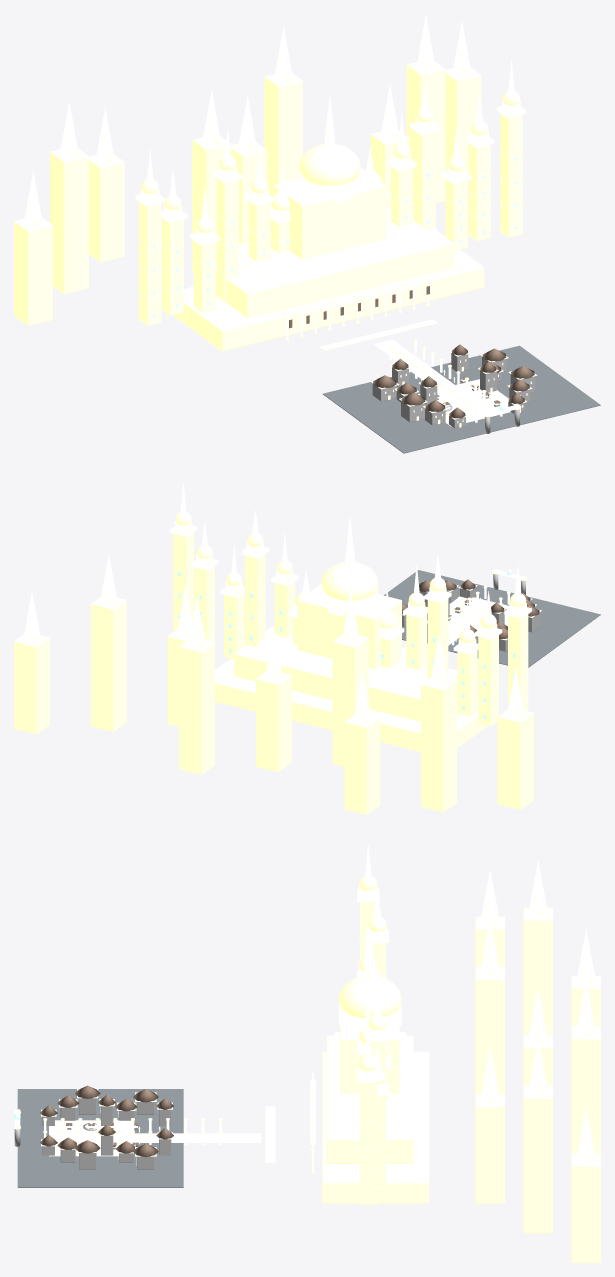
The model's file is asgard.glb.
The picture shows the model from 3 angles, top to bottom: view 1: azimuth 30°, elevation 25°; view 2: azimuth 150°, elevation 25°; view 3: azimuth 270°, elevation 25°; orthographic projection. The views are drawn at different scales.
Parts seen in each view (by area): view 1: Asgardian town square, Royal palace second ward, Royal palace lower citadel, Royal keep, Horizon tower.001, Royal palace upper ward, Horizon tower.005, Horizon tower, Horizon tower.002, Horizon tower.007, Palace tower shaft.005, Palace tower shaft.011 (+27 smaller); view 2: Horizon tower.007, Horizon tower.005, Horizon tower.001, Asgardian town square, Royal keep, Royal palace second ward, Royal palace lower citadel, Horizon tower.002, Horizon tower, Horizon tower.008, Horizon tower.004, Horizon tower.003 (+26 smaller); view 3: Asgardian town square, Horizon tower.007, Royal palace second ward, Royal palace lower citadel, Horizon tower.001, Horizon tower.003, Horizon tower.005, Horizon tower.006, Horizon tower.008, Royal palace upper ward, Royal palace terrace, Palace tower shaft.011 (+18 smaller).
Part boxes in pixels (x1,y1,x2,y2): Asgardian town square: [323, 345, 600, 453]; Royal palace second ward: [216, 213, 454, 317]; Royal palace lower citadel: [173, 249, 484, 351]; Royal keep: [273, 167, 386, 259]; Horizon tower.001: [50, 148, 88, 294]; Royal palace upper ward: [239, 207, 429, 285]; Horizon tower.005: [264, 73, 302, 204]; Horizon tower: [14, 217, 52, 325]; Horizon tower.002: [89, 154, 124, 262]; Horizon tower.007: [406, 61, 445, 203]; Palace tower shaft.005: [139, 202, 161, 325]; Palace tower shaft.011: [500, 113, 522, 237]; Horizon tower.007: [90, 597, 126, 731]; Horizon tower.005: [179, 639, 214, 774]; Horizon tower.001: [421, 677, 456, 812]; Asgardian town square: [384, 570, 600, 667]; Royal keep: [298, 583, 401, 669]; Royal palace second ward: [234, 625, 457, 721]; Royal palace lower citadel: [215, 658, 488, 751]; Horizon tower.002: [344, 714, 380, 814]; Horizon tower: [497, 710, 533, 809]; Horizon tower.008: [14, 634, 49, 734]; Horizon tower.004: [256, 672, 291, 771]; Horizon tower.003: [332, 634, 368, 766]; Asgardian town square: [17, 1089, 183, 1187]; Horizon tower.007: [523, 1085, 552, 1233]; Royal palace second ward: [326, 1035, 413, 1163]; Royal palace lower citadel: [322, 1051, 429, 1203]; Horizon tower.001: [523, 907, 552, 1035]; Horizon tower.003: [475, 967, 504, 1094]; Horizon tower.005: [571, 1026, 600, 1153]; Horizon tower.006: [475, 1094, 504, 1203]; Horizon tower.008: [571, 1154, 600, 1262]; Royal palace upper ward: [334, 1032, 406, 1128]; Royal palace terrace: [323, 1053, 420, 1175]; Palace tower shaft.011: [360, 1082, 376, 1204].
Bounding box in the file's own units: 320 × 128 × 318.
